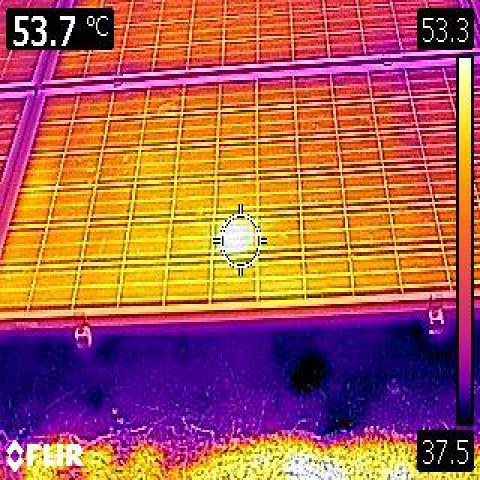fault: (215, 218, 255, 249)
